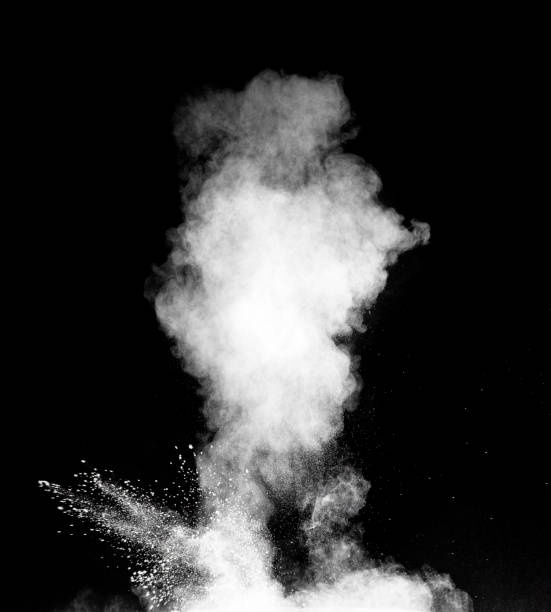smoke: (147, 68, 397, 474)
